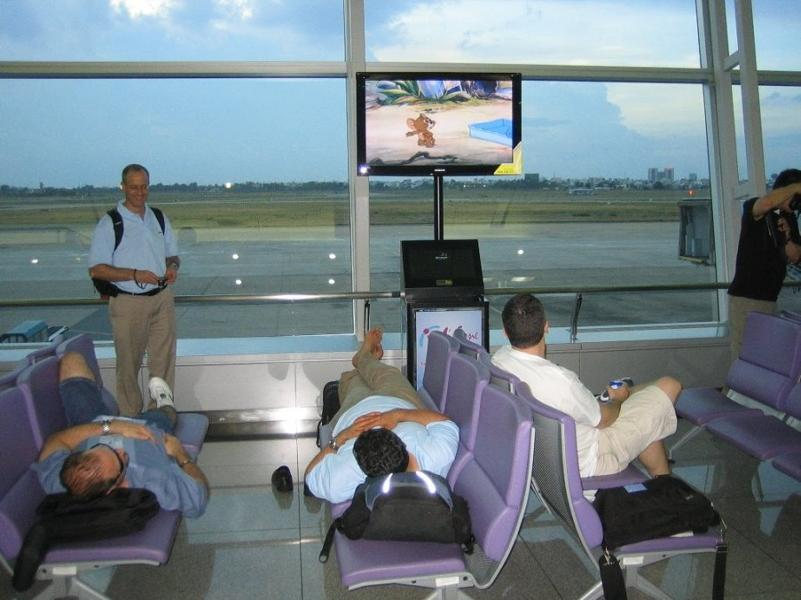person: (492, 294, 688, 487)
